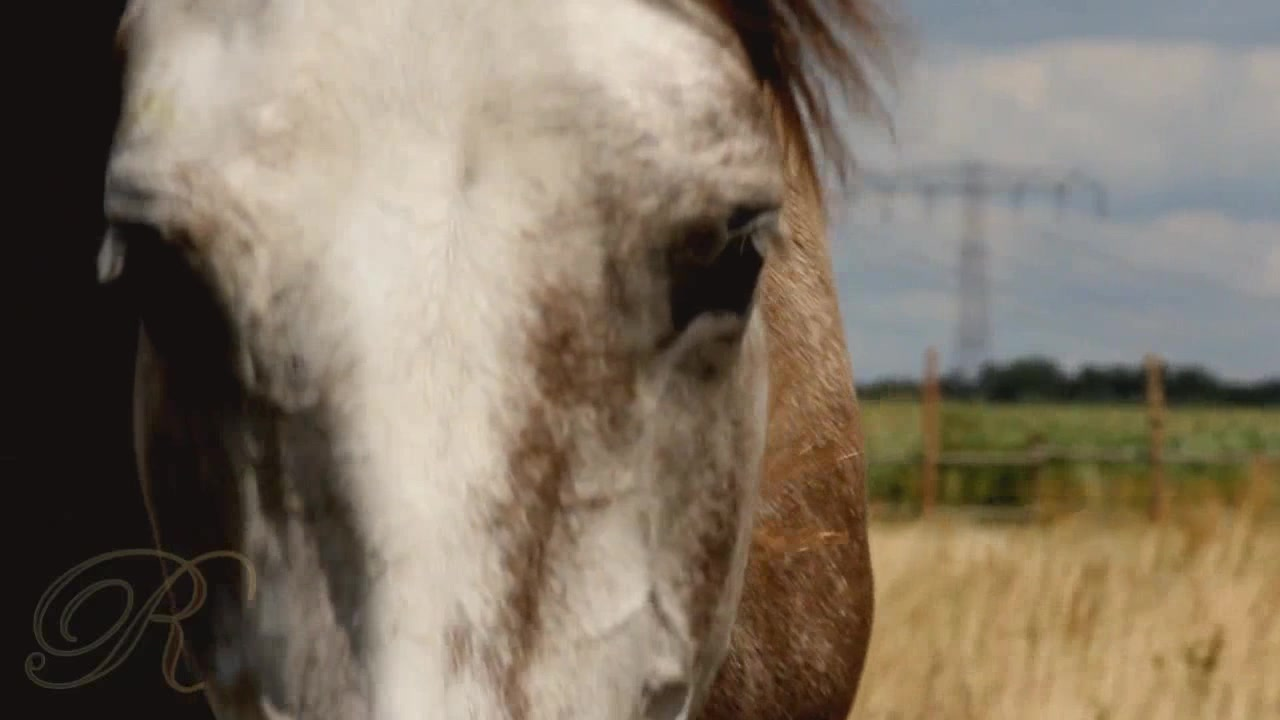horse: (1, 4, 899, 720)
